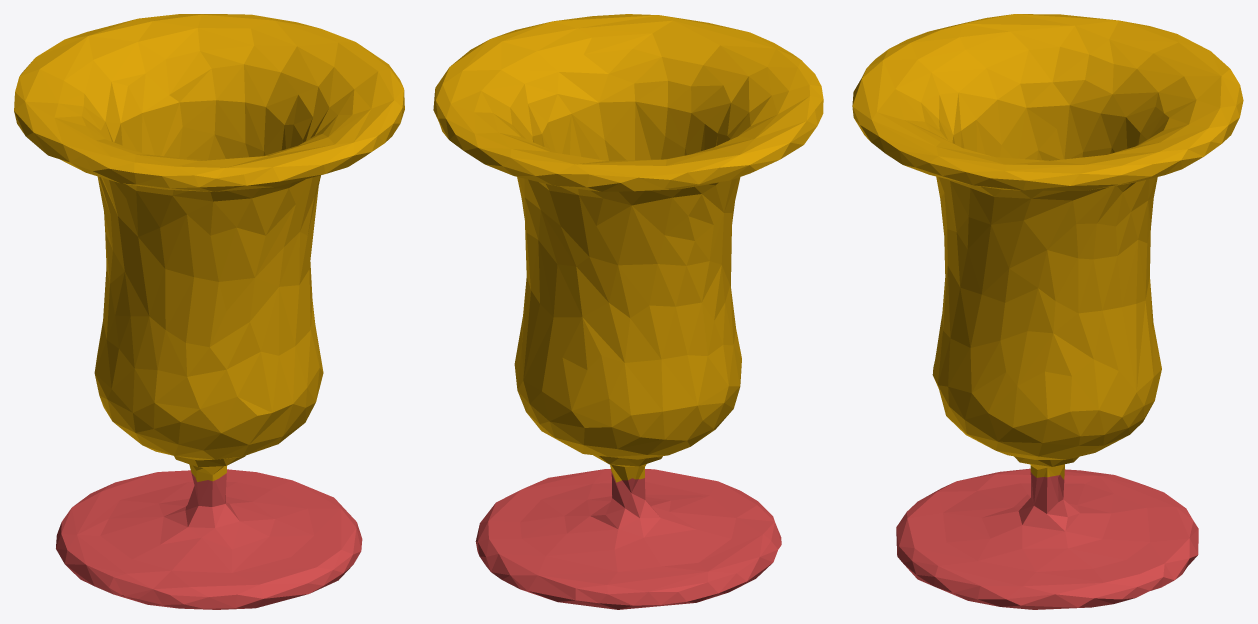
The model's file is fractured_35_2pcs.glb.
3 renders of one model, left to right at view 1: azimuth 30°, elevation 25°; view 2: azimuth 150°, elevation 25°; view 3: azimuth 270°, elevation 25°, orthographic.
Parts seen in each view (by area): view 1: piece_0.obj, piece_1.obj; view 2: piece_0.obj, piece_1.obj; view 3: piece_0.obj, piece_1.obj.
Boxes of the visible parts, box(x1,y1,x2,y2) form: piece_0.obj: box(14, 14, 404, 481); piece_1.obj: box(56, 469, 362, 609); piece_0.obj: box(433, 14, 823, 482); piece_1.obj: box(475, 469, 781, 609); piece_0.obj: box(852, 14, 1243, 479); piece_1.obj: box(896, 468, 1198, 609).
Bounding box in the file's own units: 0.7742 × 1 × 0.7773.
